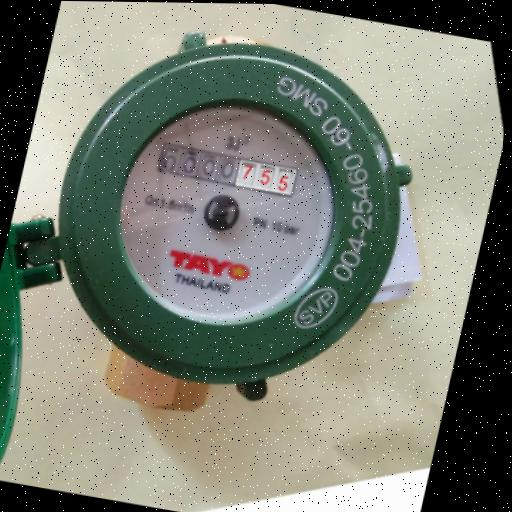0: (159, 146, 179, 172), (198, 153, 217, 178), (179, 149, 197, 175), (217, 157, 235, 182)
5: (273, 168, 291, 192), (254, 166, 273, 188)
7: (237, 163, 255, 185)
border_water_meter_number: (155, 141, 299, 198)
